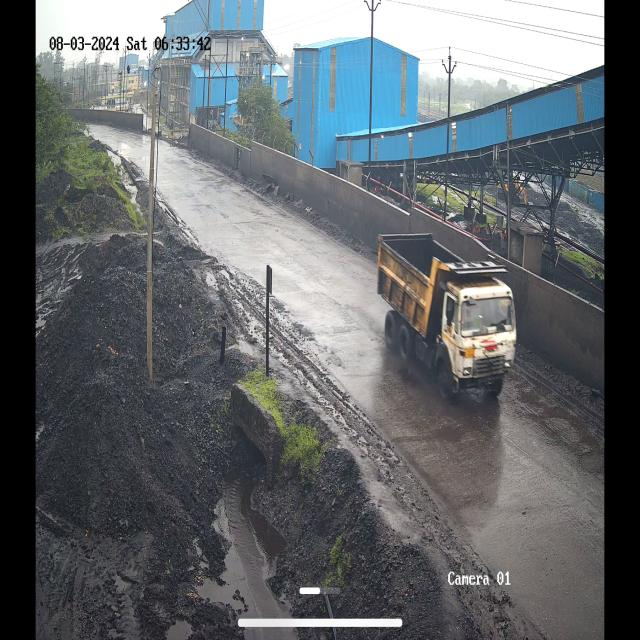dump_truck: (370, 217, 516, 401)
